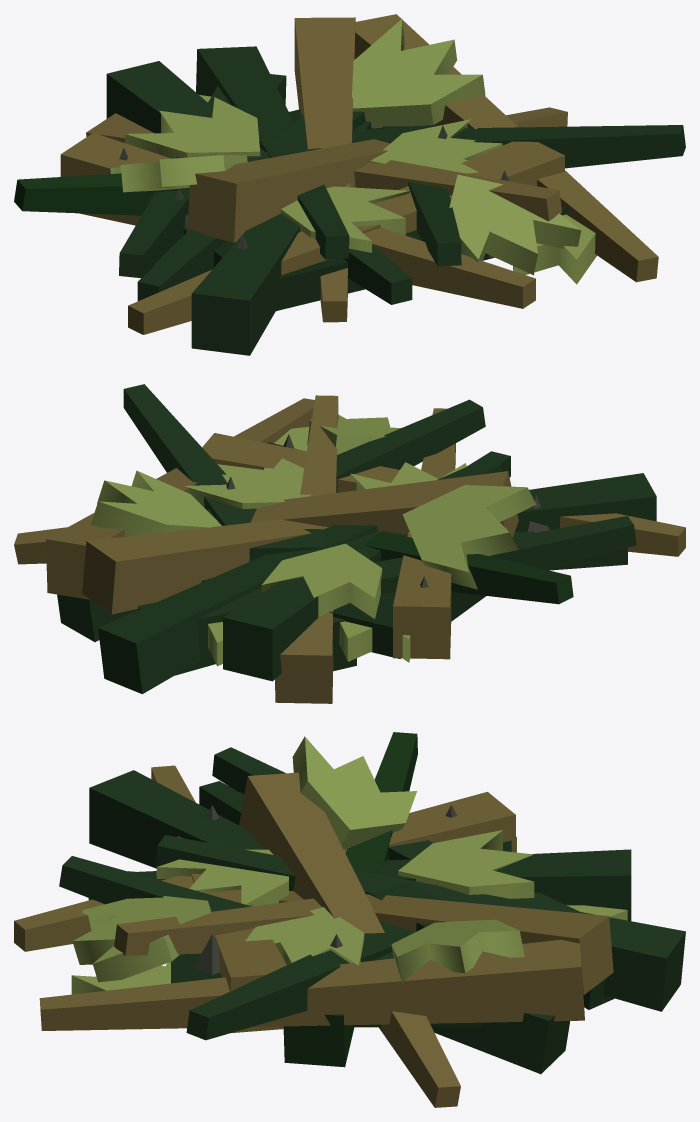
File: lisce zamka1.fbx
3 views of the same model, one above another, from view 1: azimuth 30°, elevation 25°; view 2: azimuth 150°, elevation 25°; view 3: azimuth 270°, elevation 25° (orthographic). The views are drawn at different scales.
Visible parts, largest first — view 1: pCube34; view 2: pCube34; view 3: pCube34.
Part boxes in pixels (box(x1,y1,x2,y2)): pCube34: box(14, 14, 685, 355); pCube34: box(14, 384, 685, 703); pCube34: box(14, 732, 685, 1107).
Size of the model in its own units: 0.00454 by 0.00114 by 0.00456.
